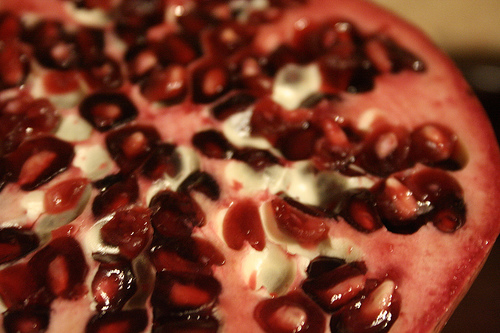pomogranate: (0, 1, 499, 332)
